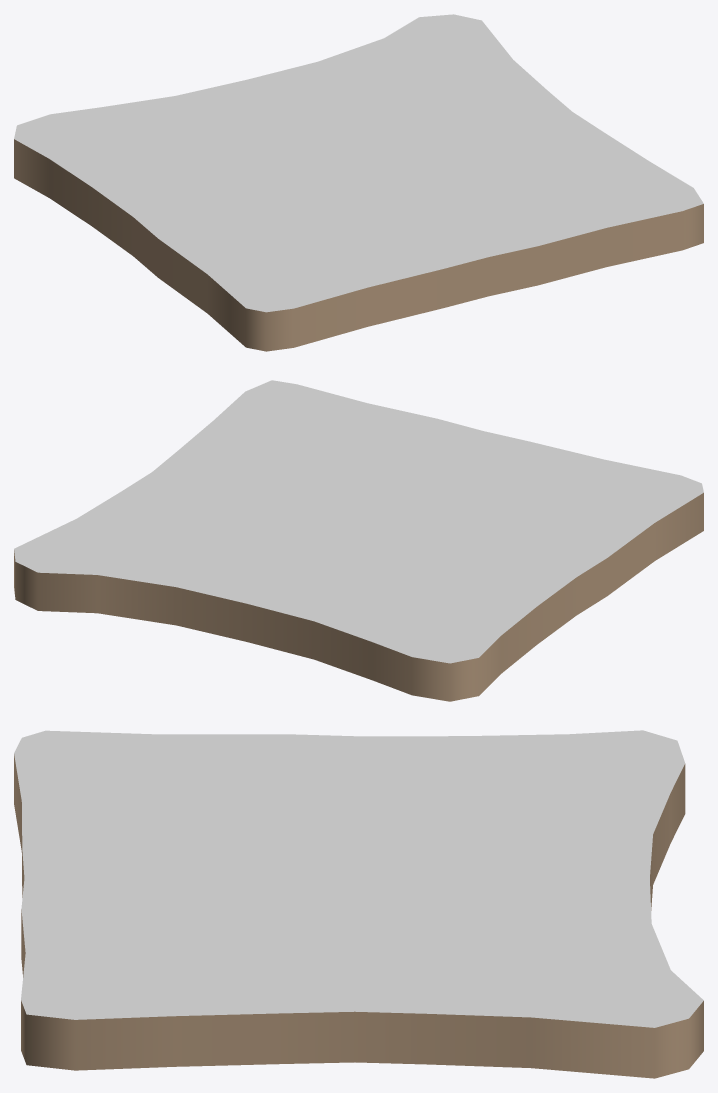
Rendered from toast.dae.
3 renders of one model, top to bottom at view 1: azimuth 30°, elevation 25°; view 2: azimuth 150°, elevation 25°; view 3: azimuth 270°, elevation 25°, orthographic. The views are drawn at different scales.
Parts seen in each view (by area): view 1: toast.002; view 2: toast.002; view 3: toast.002.
Boxes of the visible parts, x1,y1,x2,y2 form: toast.002: (14, 14, 703, 351); toast.002: (14, 380, 703, 701); toast.002: (14, 730, 703, 1078).
Bounding box in the file's own units: 1.01 × 0.9871 × 0.08.
